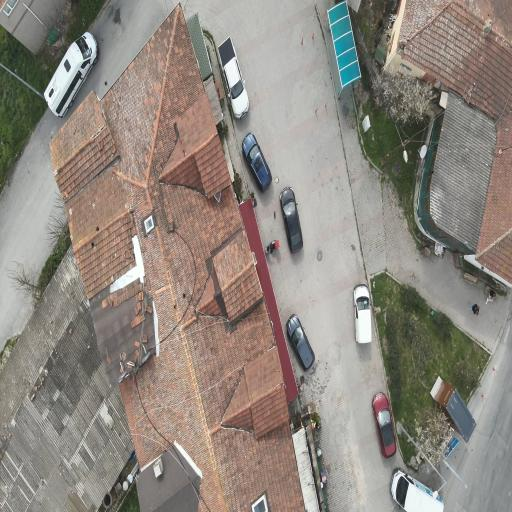car: (44, 32, 97, 118), (219, 38, 249, 118), (242, 132, 272, 192), (286, 314, 314, 371), (372, 393, 396, 457), (280, 187, 303, 253), (354, 284, 371, 343)
person: (486, 289, 495, 303), (471, 304, 479, 315)
